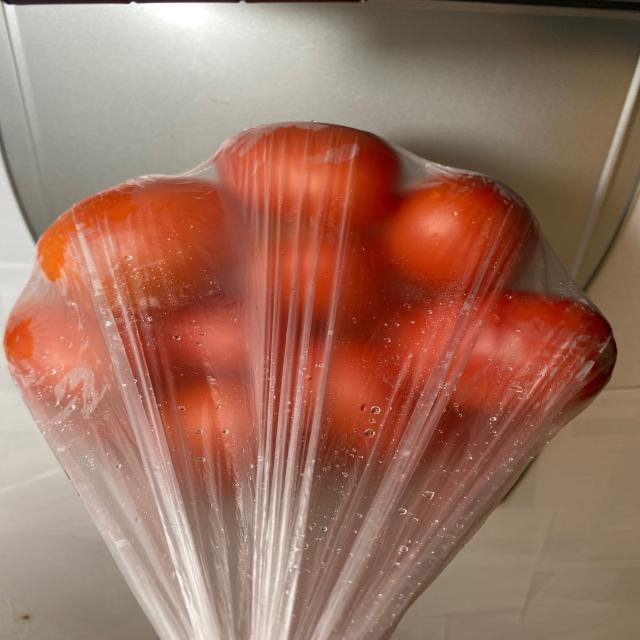tomato: (12, 128, 614, 507)
